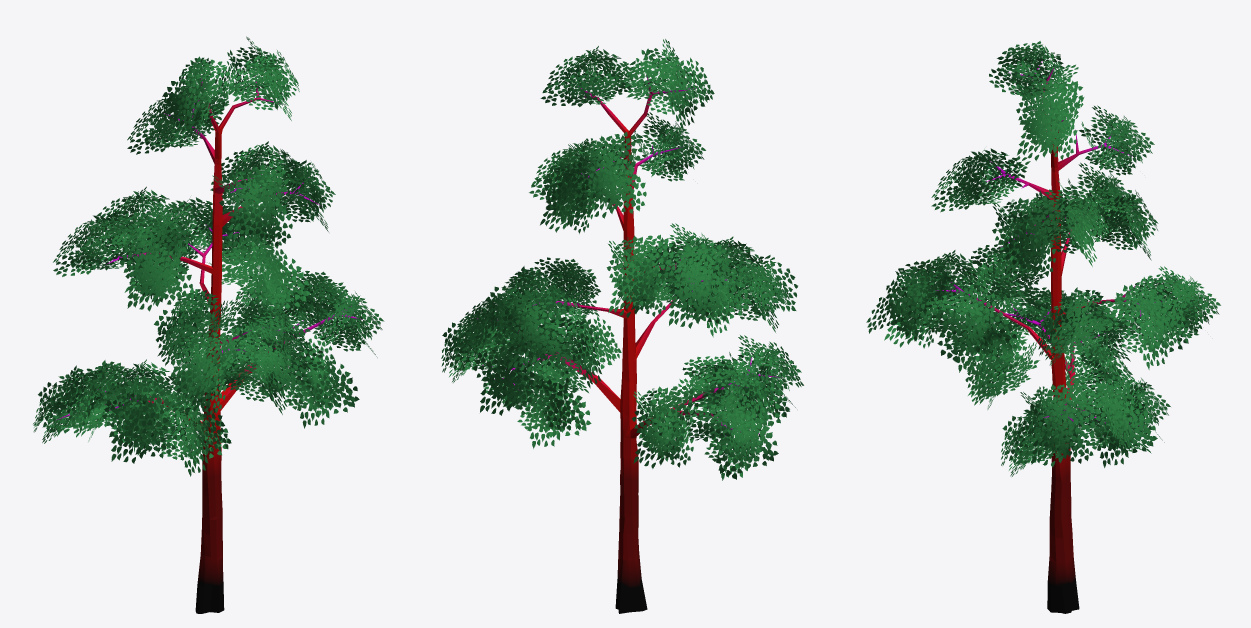
The model's file is PT_Birch_Tree_03_green.fbx.
3 views of the same model, side by side, from view 1: azimuth 30°, elevation 25°; view 2: azimuth 150°, elevation 25°; view 3: azimuth 270°, elevation 25° (orthographic). The views are drawn at different scales.
Parts seen in each view (by area): view 1: PT_Birch_Tree_03_green_LOD0; view 2: PT_Birch_Tree_03_green_LOD0; view 3: PT_Birch_Tree_03_green_LOD0.
Part boxes in pixels (box(x1,y1,x2,y2)): PT_Birch_Tree_03_green_LOD0: box(33, 36, 384, 613); PT_Birch_Tree_03_green_LOD0: box(441, 39, 803, 613); PT_Birch_Tree_03_green_LOD0: box(866, 41, 1220, 613).
Size of what is drawn, in the model's own units: 843 by 1297 by 792.
